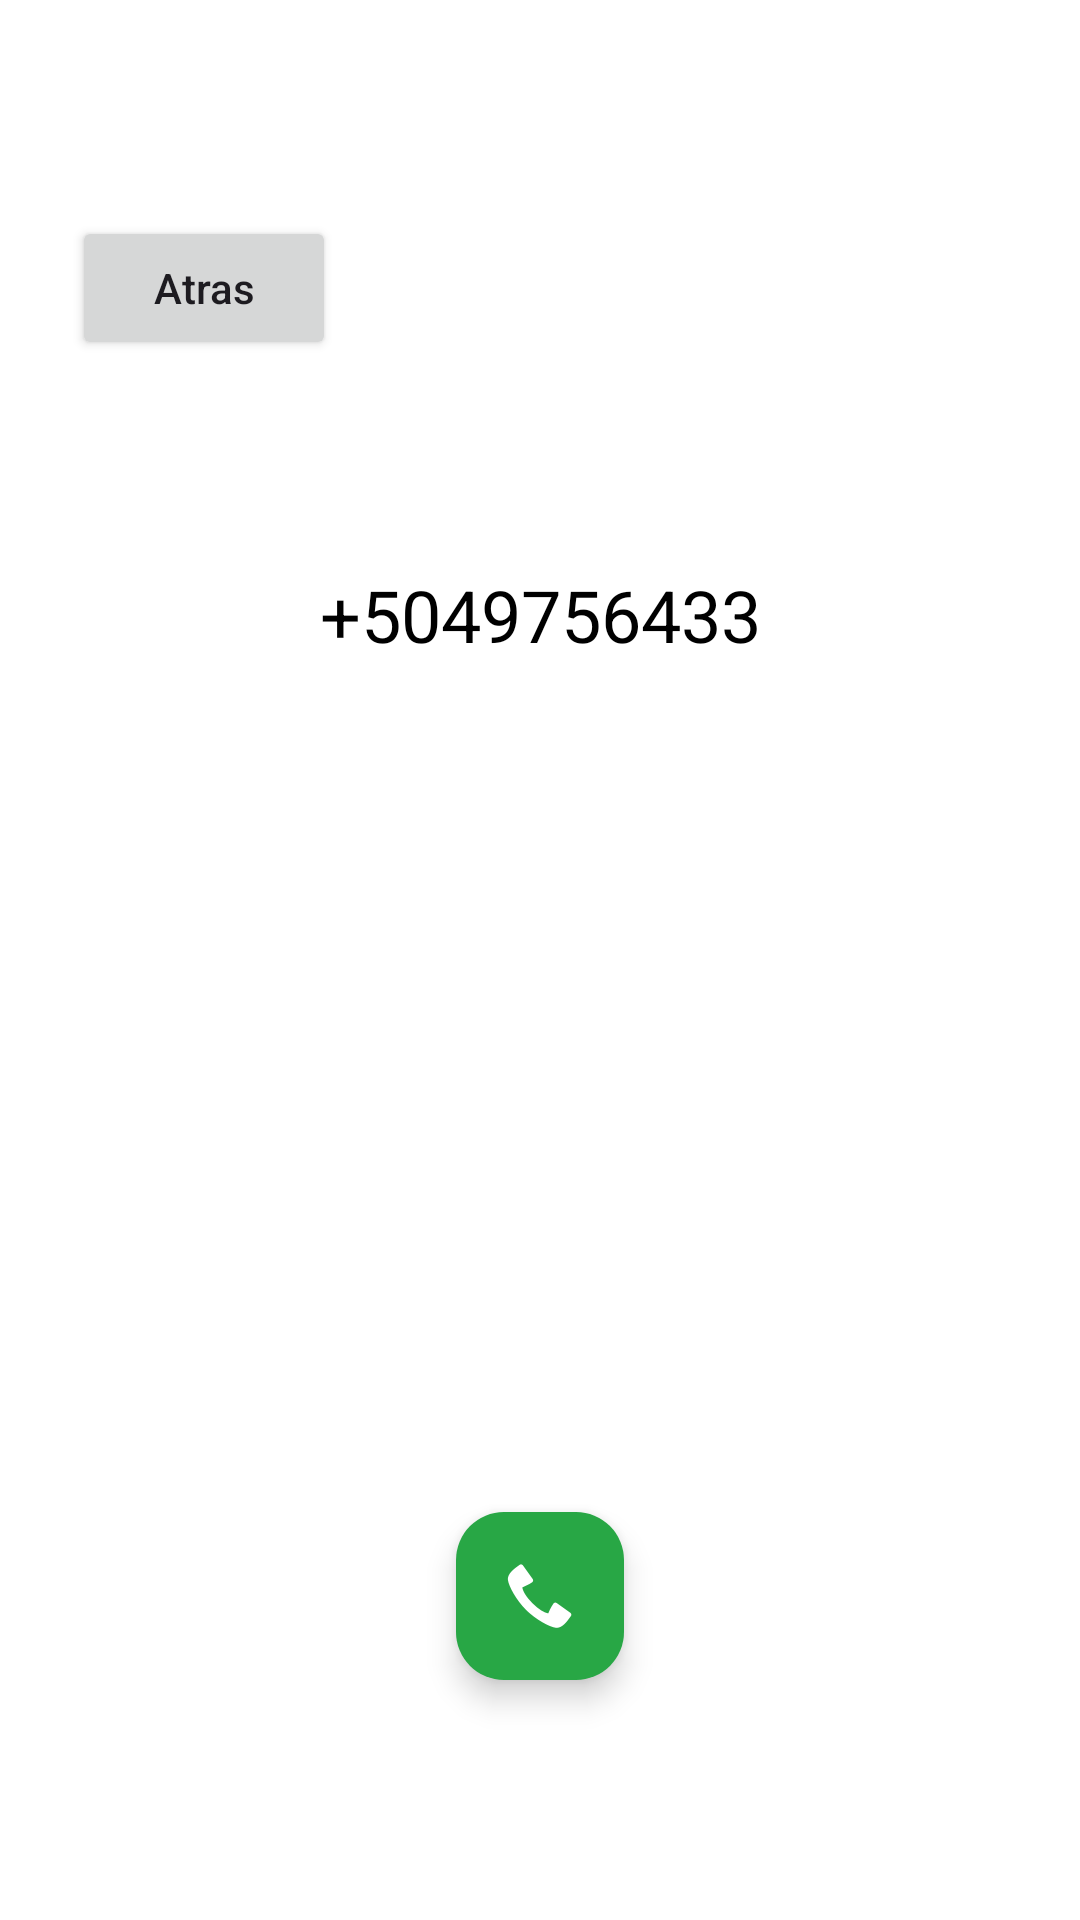

Point at icon controls on the screen. Image size 1080w x 1920h, points as (x=x, y=y).
phone call: (x=540, y=1596)
